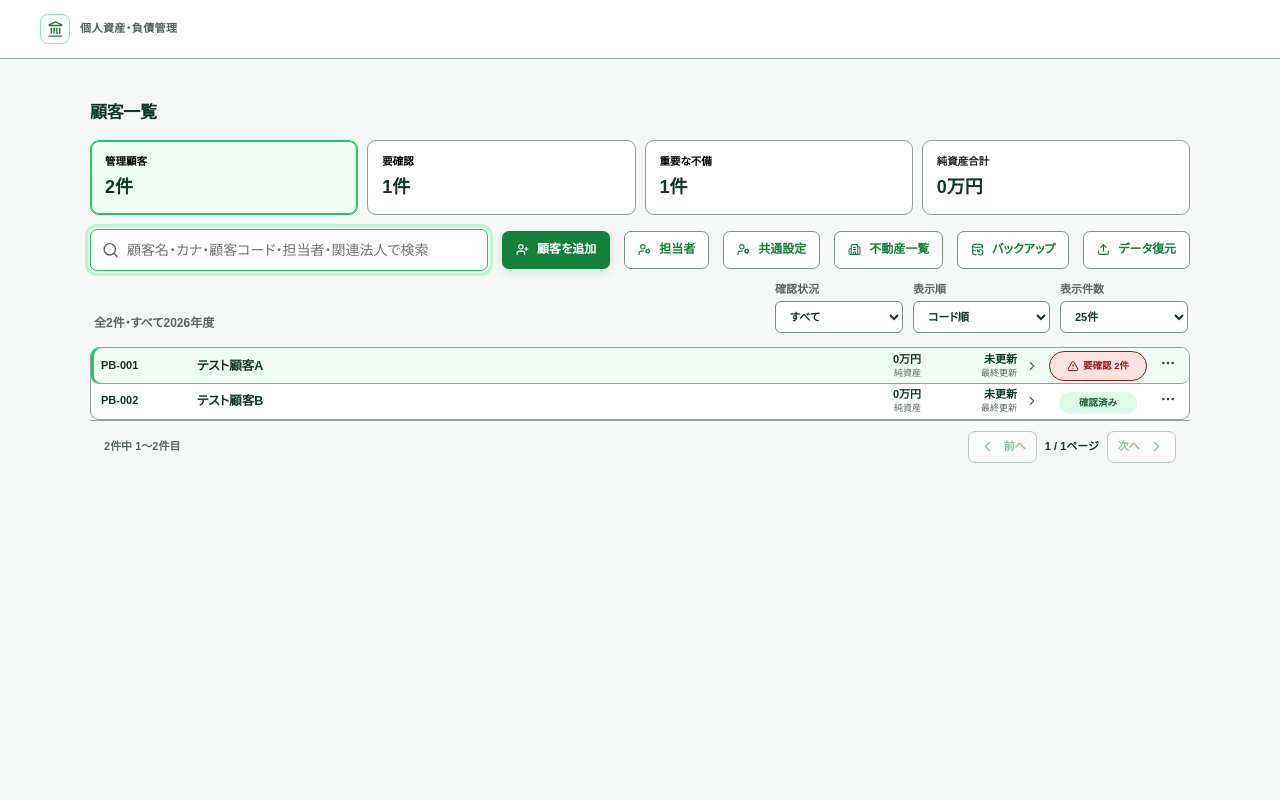
Test: 顧客一覧の表示 › 警告専用ボタンから内容と修正先を表示し、閉じると元のボタンへ戻る
The width and height of the screenshot is (1280, 800).
In the dropdown named "顧客を検索": [289, 250] box [90, 229, 488, 271], type "顧客A"
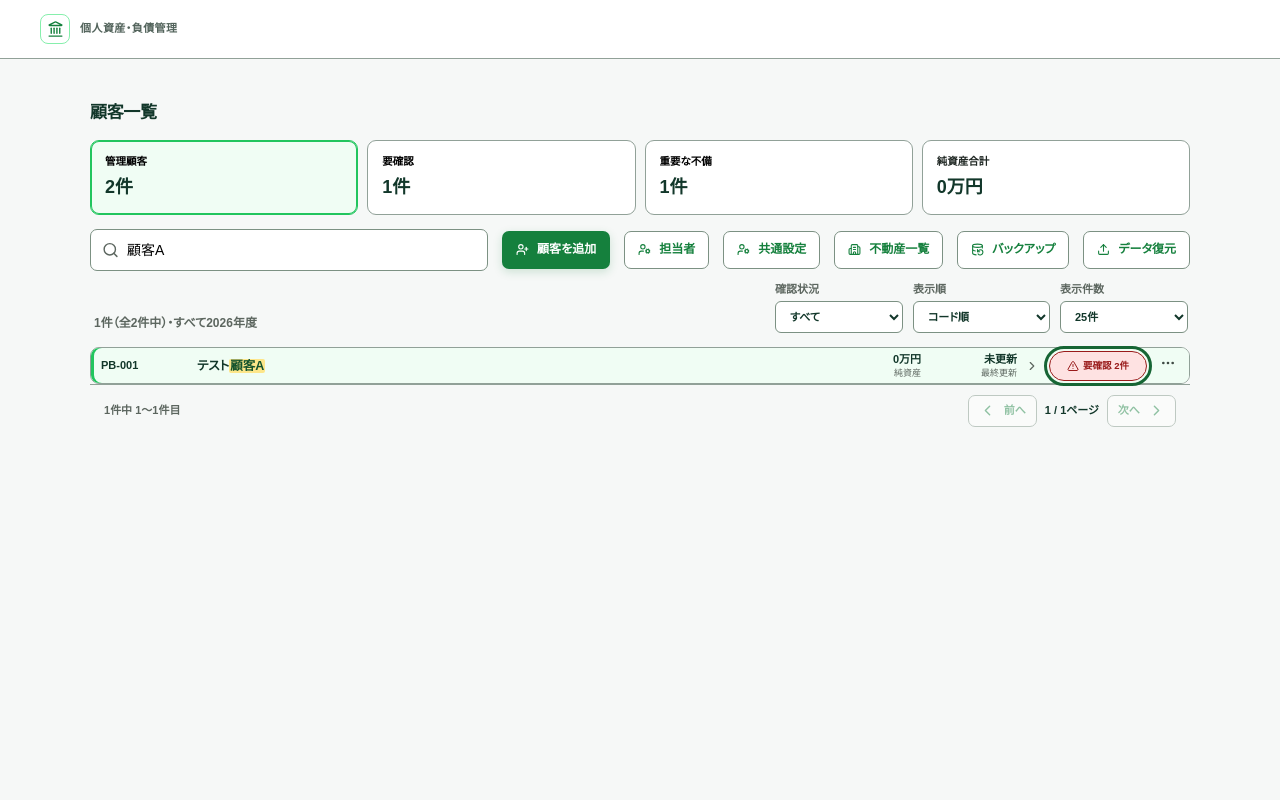
Click the button with aria-label "テスト顧客Aの確認事項を表示（2件）": [1098, 366] box [1049, 351, 1147, 381]
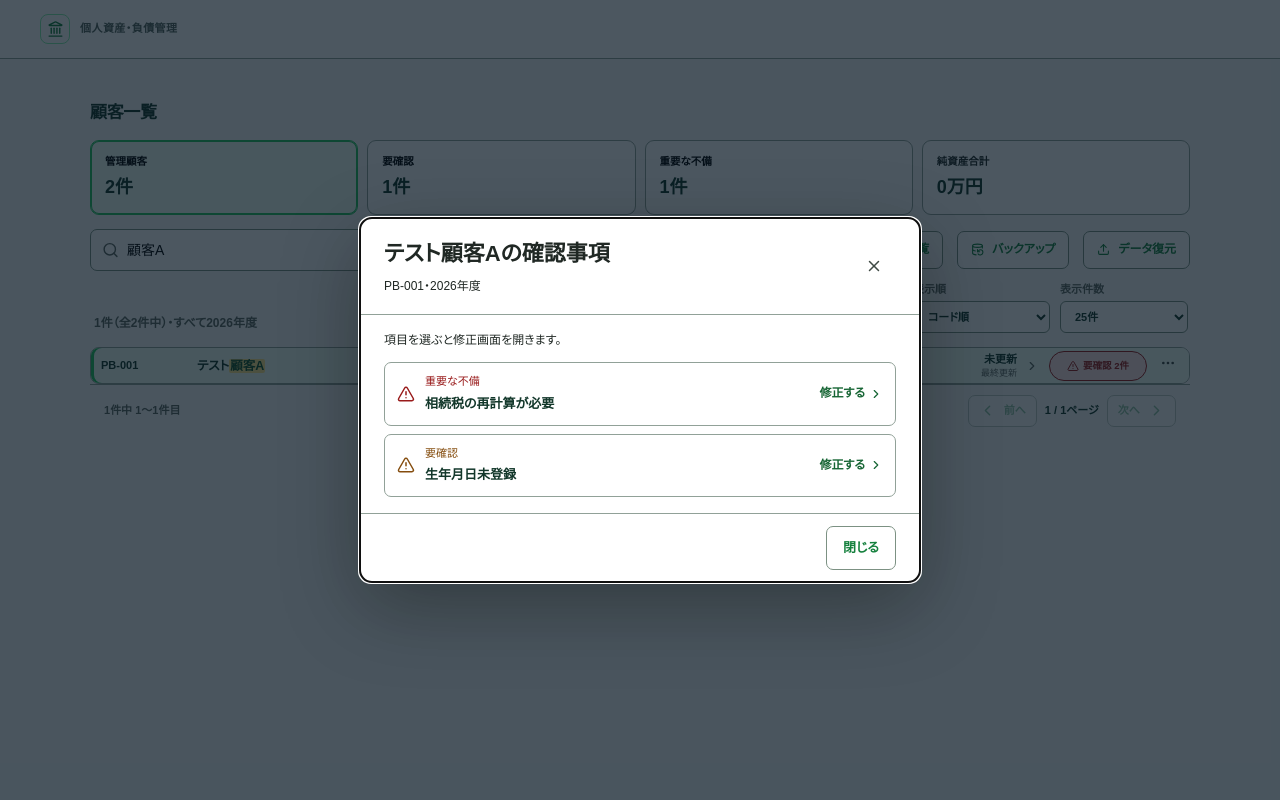
Expected: the text "PB-001・2026年度" is shown, [384, 279, 481, 293]
Press Escape in the dialog "テスト顧客Aの確認事項", box [360, 218, 920, 582]
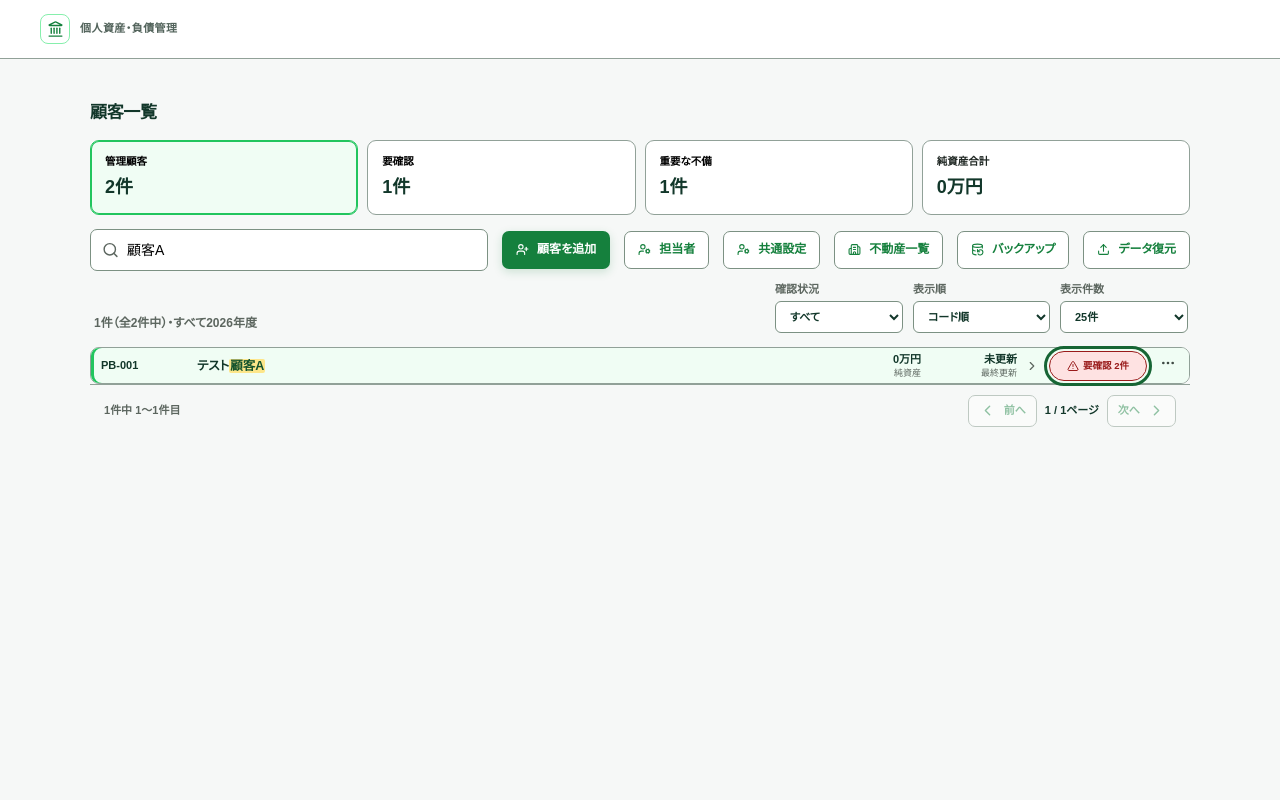
Expected: the dialog is gone
